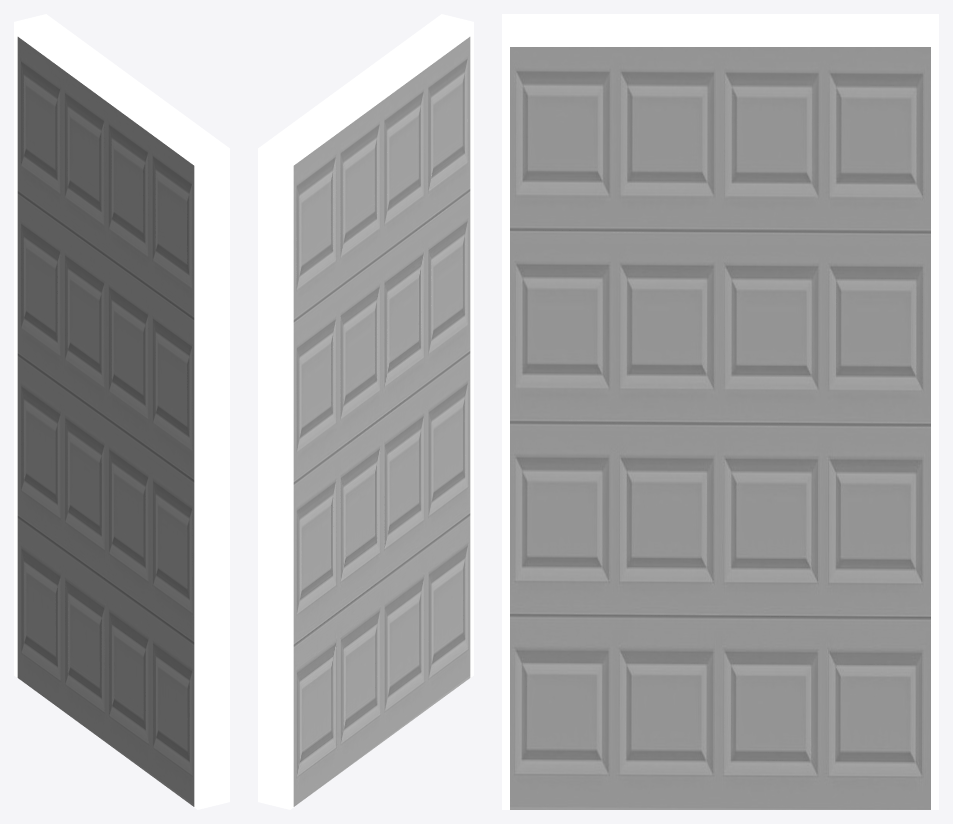
Rendered from overhead_door_door_no_glass.8f4f4590.gltf.
3 views of the same model, side by side, from view 1: azimuth 30°, elevation 25°; view 2: azimuth 150°, elevation 25°; view 3: azimuth 270°, elevation 25° (orthographic). The views are drawn at different scales.
Visible parts, largest first — view 1: door, trim; view 2: door, trim; view 3: door, trim.
Boxes of the visible parts, x1=… form: door: x1=17, y1=37, x2=194, y2=806; trim: x1=14, y1=14, x2=229, y2=809; door: x1=293, y1=37, x2=470, y2=806; trim: x1=258, y1=14, x2=473, y2=809; door: x1=510, y1=47, x2=930, y2=809; trim: x1=502, y1=14, x2=938, y2=809.
Bounding box in the file's own units: 0.3092 × 6 × 3.05.
2 materials, 1 textured.
